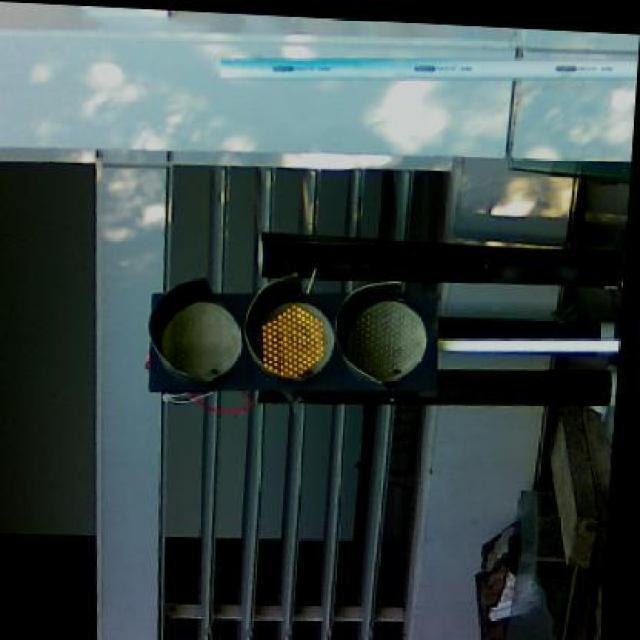yellow_light: (149, 273, 436, 401)
